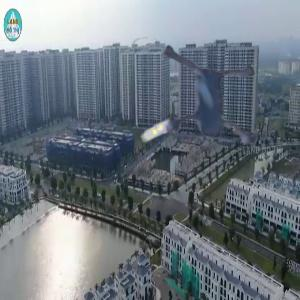drone: (102, 14, 284, 196)
